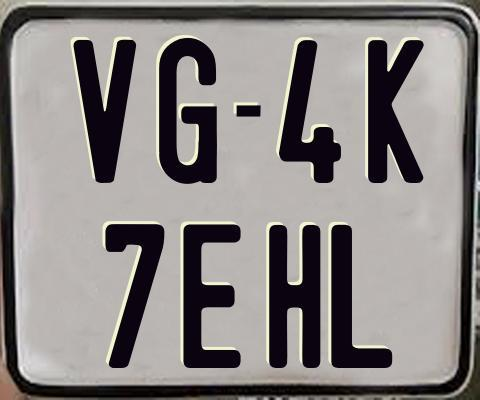4: (277, 39, 341, 183)
7: (104, 222, 168, 372)
E: (181, 221, 244, 365)
G: (158, 37, 219, 185)
H: (268, 222, 326, 370)
K: (368, 37, 424, 181)
L: (329, 225, 396, 371)
V: (73, 38, 137, 182)
